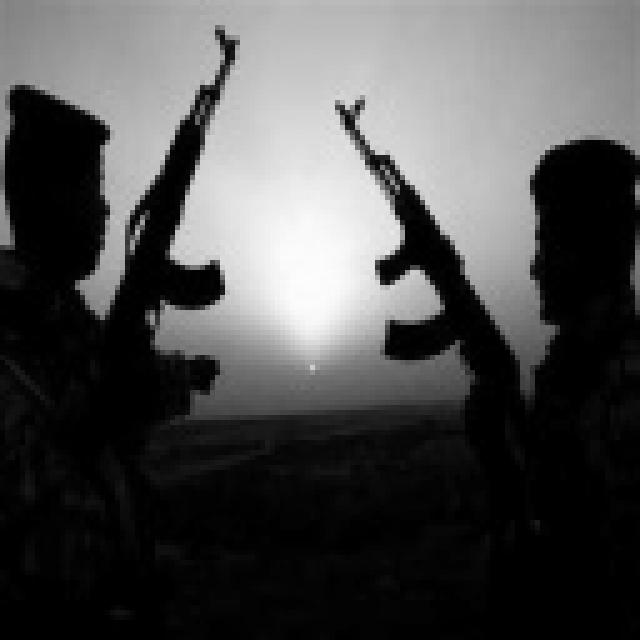Rifle: (54, 19, 303, 443), (296, 85, 554, 466)
